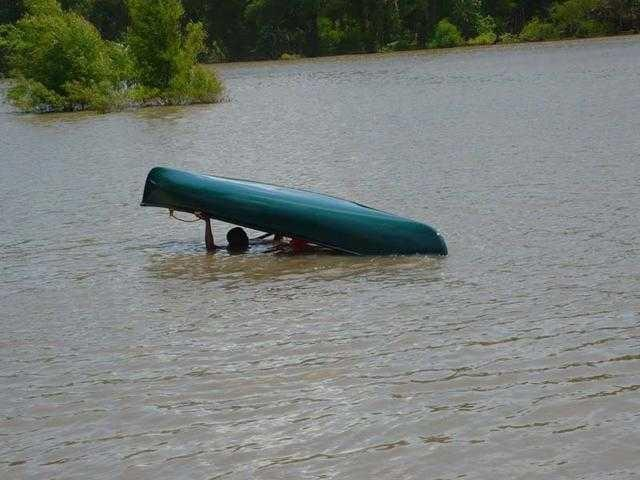kayak: (140, 163, 449, 257)
